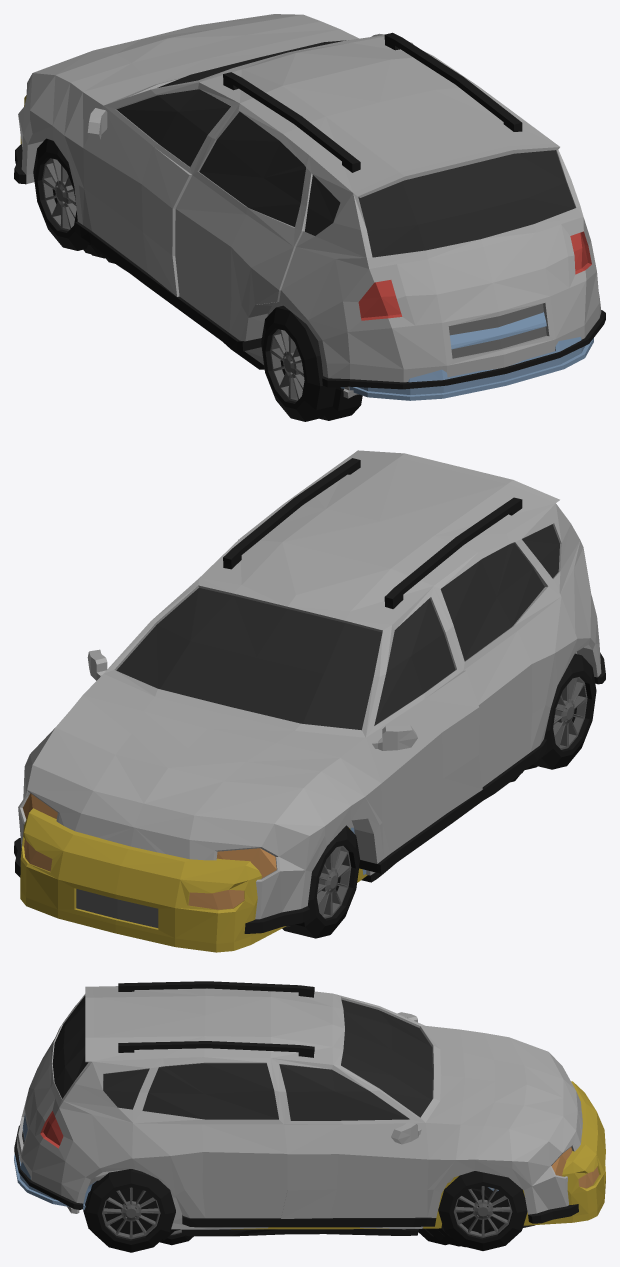
The model's file is cars.glb.
3 views of the same model, one above another, from view 1: azimuth 30°, elevation 25°; view 2: azimuth 150°, elevation 25°; view 3: azimuth 270°, elevation 25° (orthographic). The views are drawn at different scales.
Visible parts, largest first — view 1: SUV_body, SUV_wheels_back, NormalCar1_body, SUV_wheel_fl, SportsCar2_wheels_back; view 2: SUV_body, Taxi_body, SUV_wheel_fl, SUV_wheels_back; view 3: SUV_body, SUV_wheels_back, SUV_wheel_fr, Taxi_body, Cop_body, SportsCar2_body, NormalCar1_body.
Boxes of the visible parts, <box> form: SUV_body: <box>14,14,605,389</box>; SUV_wheels_back: <box>261,305,336,421</box>; NormalCar1_body: <box>340,312,593,400</box>; SUV_wheel_fl: <box>33,138,89,250</box>; SportsCar2_wheels_back: <box>319,387,362,420</box>; SUV_body: <box>14,450,605,933</box>; Taxi_body: <box>20,808,367,952</box>; SUV_wheel_fl: <box>282,825,360,938</box>; SUV_wheels_back: <box>533,653,596,769</box>; SUV_body: <box>14,981,582,1227</box>; SUV_wheels_back: <box>86,1169,175,1252</box>; SUV_wheel_fr: <box>438,1171,527,1250</box>; Taxi_body: <box>231,1081,605,1229</box>; Cop_body: <box>182,1186,535,1236</box>; SportsCar2_body: <box>67,1168,492,1229</box>; NormalCar1_body: <box>14,1114,498,1209</box>.
Size of the model in its own units: 2.11 by 1.54 by 4.32.
